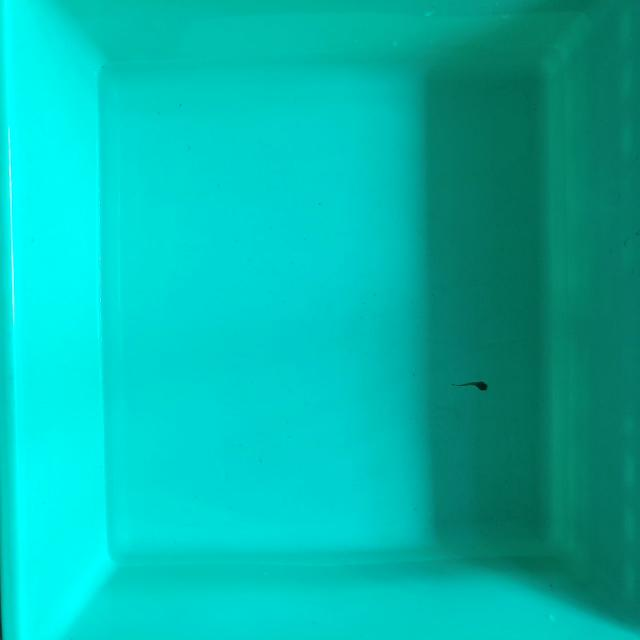lele: (452, 379, 488, 392)
